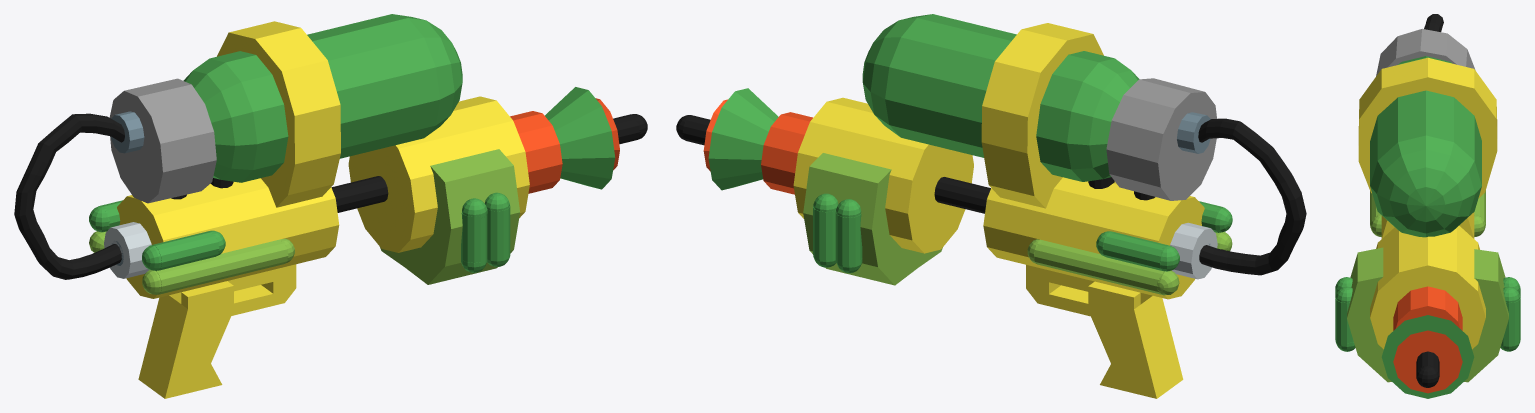
The picture shows the model from 3 angles, left to right: view 1: azimuth 30°, elevation 25°; view 2: azimuth 150°, elevation 25°; view 3: azimuth 270°, elevation 25°; orthographic projection. The views are drawn at different scales.
Visible parts, largest first — view 1: mesh_1528942852, mesh_1231265303, mesh_788754832, mesh_152732627, group_1432826538, mesh_1626636843, mesh_1460454516, group_426131636, mesh_805588756, mesh_1919121466, mesh_501557005, mesh_1093873200 (+5 smaller); view 2: mesh_1528942852, mesh_1231265303, mesh_788754832, mesh_152732627, group_1432826538, mesh_1626636843, mesh_1460454516, group_426131636, mesh_805588756, mesh_869934215, mesh_501557005, mesh_1093873200 (+5 smaller); view 3: mesh_1528942852, mesh_1231265303, mesh_152732627, mesh_1460454516, mesh_805588756, mesh_1119951653, mesh_1626636843, mesh_501557005, mesh_155952289, mesh_1585345453, mesh_788754832, mesh_1788925378 (+8 smaller).
Boxes of the visible parts, left/top/right/bottom form: mesh_1528942852: left=183, top=14, right=462, bottom=182; mesh_1231265303: left=348, top=96, right=529, bottom=252; mesh_788754832: left=117, top=178, right=339, bottom=298; mesh_152732627: left=217, top=21, right=340, bottom=207; group_1432826538: left=138, top=264, right=296, bottom=398; mesh_1626636843: left=109, top=78, right=216, bottom=203; mesh_1460454516: left=380, top=149, right=519, bottom=284; group_426131636: left=14, top=113, right=124, bottom=279; mesh_805588756: left=545, top=87, right=615, bottom=189; mesh_1919121466: left=156, top=239, right=288, bottom=294; mesh_501557005: left=510, top=111, right=562, bottom=193; mesh_1093873200: left=331, top=114, right=640, bottom=212; mesh_1528942852: left=862, top=14, right=1139, bottom=181; mesh_1231265303: left=793, top=97, right=973, bottom=253; mesh_788754832: left=983, top=177, right=1204, bottom=299; mesh_152732627: left=981, top=23, right=1103, bottom=208; group_1432826538: left=1026, top=265, right=1183, bottom=398; mesh_1626636843: left=1106, top=78, right=1216, bottom=200; mesh_1460454516: left=803, top=153, right=942, bottom=285; group_426131636: left=1198, top=118, right=1306, bottom=275; mesh_805588756: left=708, top=88, right=778, bottom=190; mesh_869934215: left=1034, top=240, right=1163, bottom=294; mesh_501557005: left=761, top=112, right=812, bottom=194; mesh_1093873200: left=682, top=115, right=990, bottom=213; mesh_1528942852: left=1370, top=56, right=1481, bottom=237; mesh_1231265303: left=1370, top=225, right=1485, bottom=349; mesh_152732627: left=1358, top=57, right=1497, bottom=198; mesh_1460454516: left=1347, top=247, right=1508, bottom=382; mesh_805588756: left=1381, top=315, right=1474, bottom=398; mesh_1119951653: left=1393, top=330, right=1462, bottom=393; mesh_1626636843: left=1376, top=28, right=1475, bottom=76; mesh_501557005: left=1393, top=286, right=1462, bottom=330; mesh_155952289: left=1501, top=298, right=1520, bottom=344; mesh_1585345453: left=1335, top=298, right=1353, bottom=344; mesh_788754832: left=1381, top=212, right=1474, bottom=238; mesh_1788925378: left=1416, top=365, right=1439, bottom=387.
Size of the model in its own units: 54.79 by 27 by 16.
